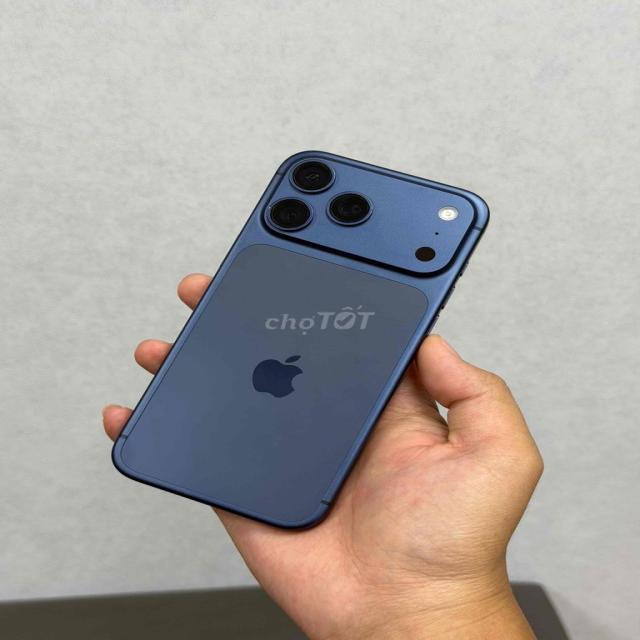gen_17: (108, 139, 486, 536)
